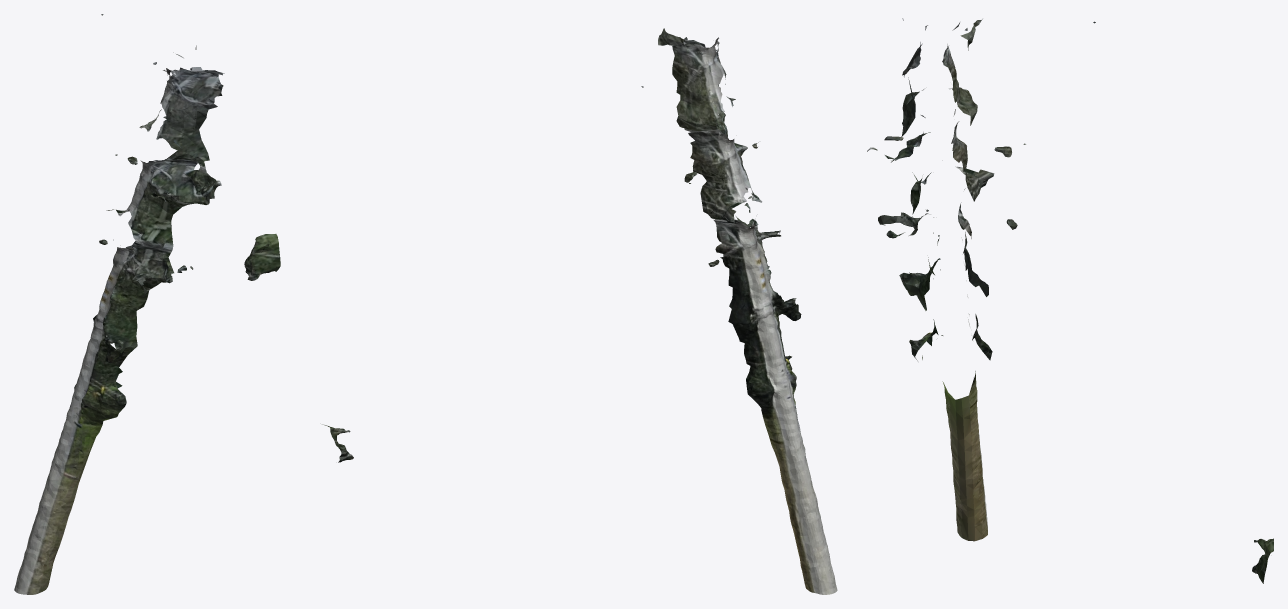
3 views of the same model, side by side, from view 1: azimuth 30°, elevation 25°; view 2: azimuth 150°, elevation 25°; view 3: azimuth 270°, elevation 25° (orthographic). The views are drawn at different scales.
Bounding box in the file's own units: 4.04 × 5.05 × 3.18.
Materials: 1 (1 with a texture image).
